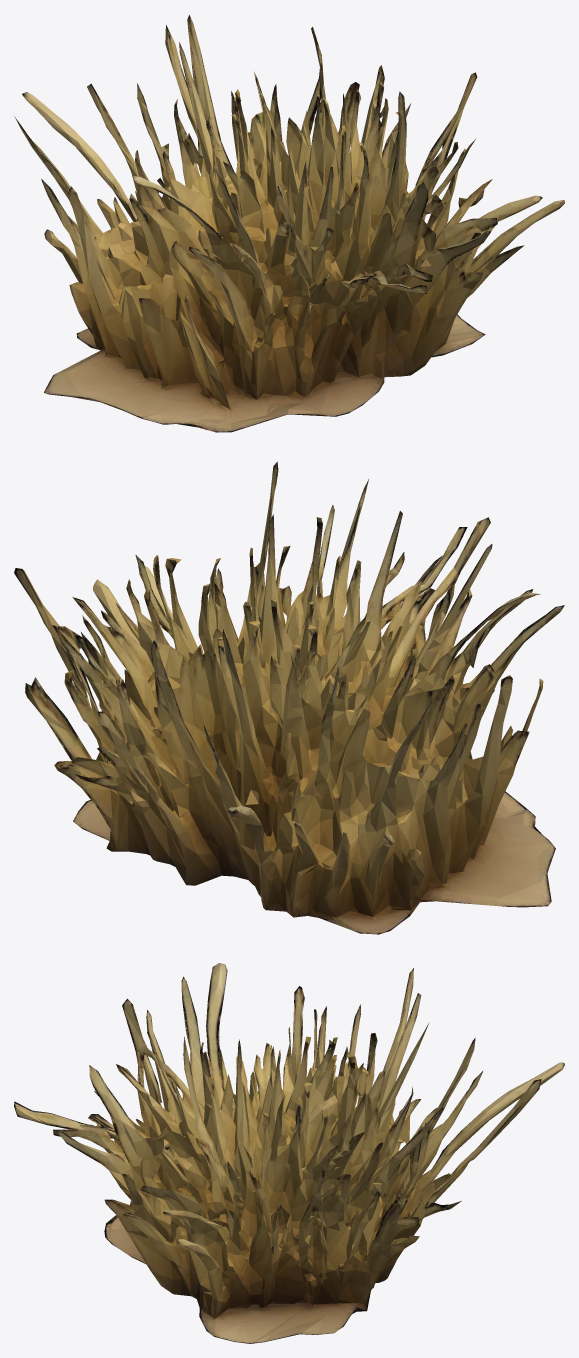
The model's file is dry_grass_patch.glb.
3 views of the same model, one above another, from view 1: azimuth 30°, elevation 25°; view 2: azimuth 150°, elevation 25°; view 3: azimuth 270°, elevation 25° (orthographic). The views are drawn at different scales.
Parts seen in each view (by area): view 1: world; view 2: world; view 3: world.
Part boxes in pixels (x1,y1,x2,y2): world: [14, 15, 564, 432]; world: [14, 461, 564, 934]; world: [14, 963, 564, 1343].
Bounding box in the file's own units: 0.8668 × 0.5155 × 0.9857.
Materials: 1 (1 with a texture image).
